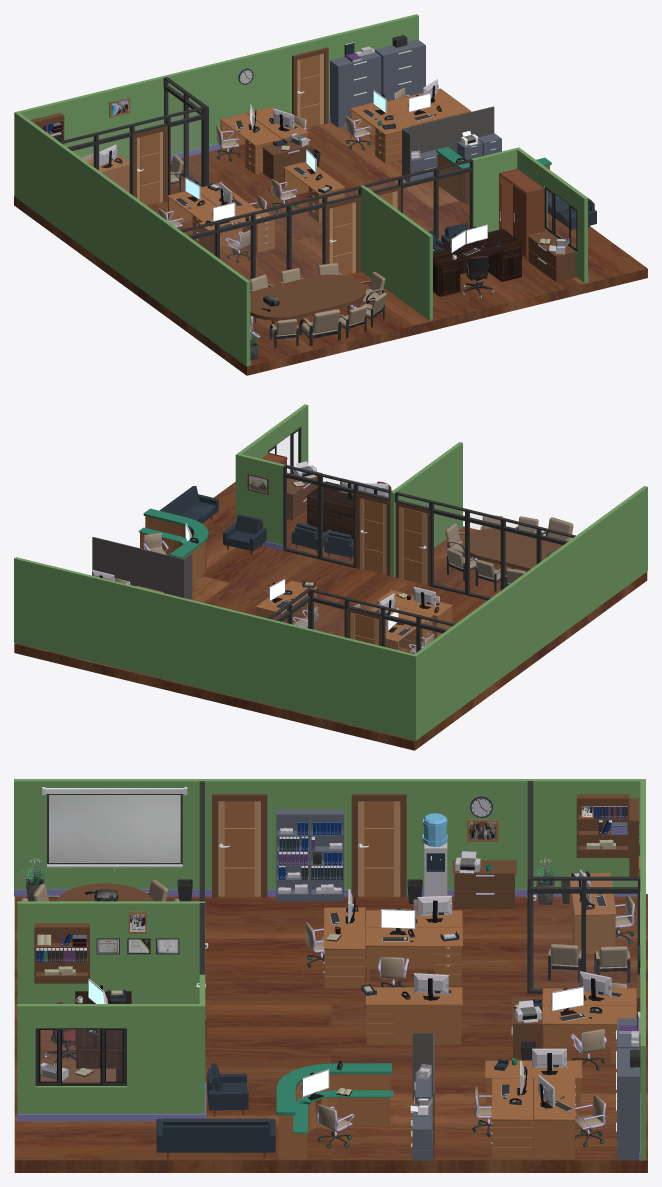
Rendered from office.glb.
3 renders of one model, top to bottom at view 1: azimuth 30°, elevation 25°; view 2: azimuth 150°, elevation 25°; view 3: azimuth 270°, elevation 25°, orthographic. The views are drawn at different scales.
Parts seen in each view (by area): view 1: Object_4, Object_8, Object_10, Object_13, Object_103, Object_43, Object_435, Object_46, Object_409, Object_1140, Object_385, Object_17 (+11 smaller); view 2: Object_4, Object_8, Object_13, Object_10, Object_17, Object_26, Object_46, Object_43, Object_435, Object_409, Object_45, Object_1140 (+2 smaller); view 3: Object_8, Object_4, Object_10, Object_43, Object_1043, Object_13, Object_103, Object_26, Object_15, Object_46, Object_435, Object_1078 (+17 smaller).
Boxes of the visible parts, x1,y1,x2,y2 form: Object_4: (14,14,587,366); Object_8: (14,122,647,375); Object_10: (86,88,549,254); Object_13: (53,35,499,278); Object_103: (330,39,501,180); Object_43: (30,47,576,282); Object_435: (81,87,405,337); Object_46: (140,54,392,275); Object_409: (250,174,526,327); Object_1140: (433,229,523,296); Object_385: (499,168,590,258); Object_17: (402,106,494,181); Object_4: (14,404,647,740); Object_8: (14,482,647,750); Object_13: (190,464,575,652); Object_10: (136,516,452,650); Object_17: (92,537,192,599); Object_26: (159,486,435,626); Object_46: (355,499,422,644); Object_43: (287,472,430,646); Object_435: (115,515,573,651); Object_409: (247,458,562,570); Object_45: (350,498,427,645); Object_1140: (305,481,389,538); Object_8: (14,894,647,1172); Object_4: (14,779,645,1160); Object_10: (128,806,640,1159); Object_43: (34,794,640,1104); Object_1043: (42,787,187,894); Object_13: (48,781,640,1146); Object_103: (276,809,639,1160); Object_26: (95,837,639,1152); Object_15: (36,806,640,1111); Object_46: (224,801,393,896); Object_435: (17,879,634,1131); Object_1078: (41,1029,121,1082).
Size of what is drawn, in the model's own units: 10.1 by 2.25 by 10.12.
44 materials, 16 textured.
